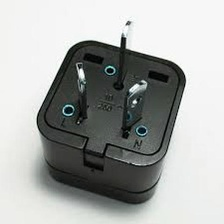three_eye_plug: (30, 13, 189, 208)
